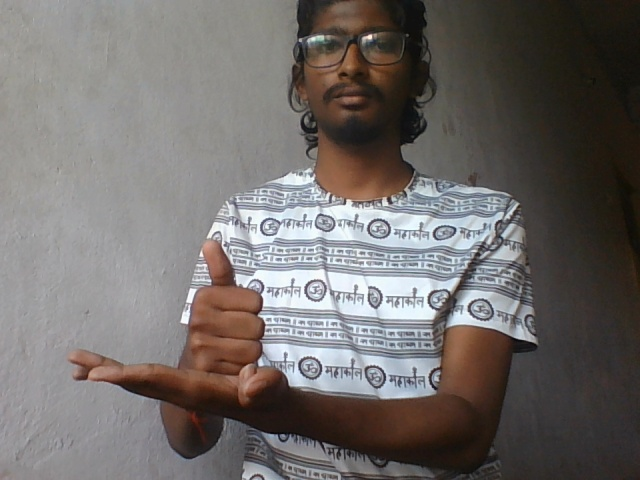Name: (64, 231, 295, 434)
